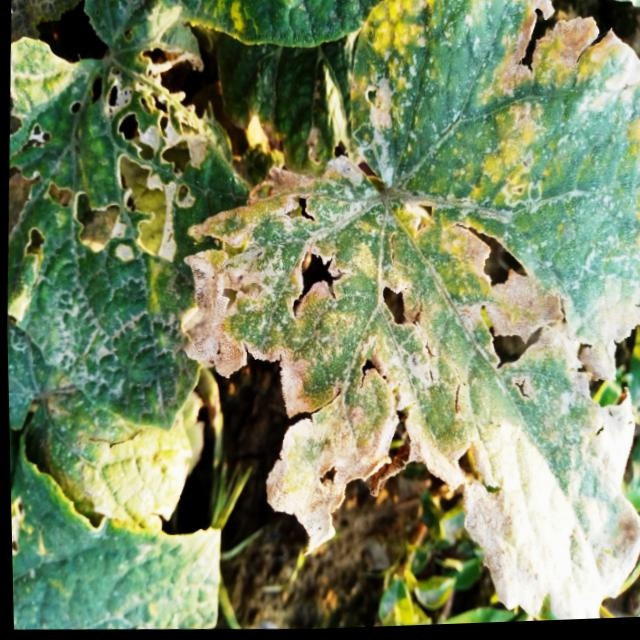Anthracnose: (8, 42, 222, 274), (453, 216, 549, 374), (279, 191, 347, 319), (376, 275, 428, 338)
